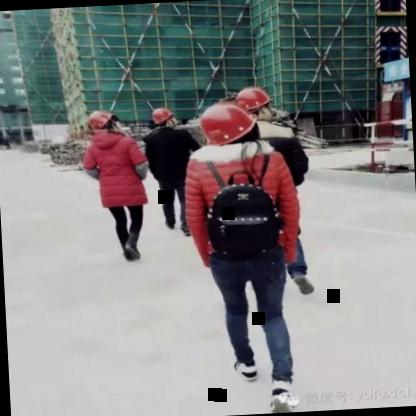helmet: (193, 98, 266, 150), (230, 80, 276, 123), (82, 104, 122, 138), (145, 104, 181, 130)
